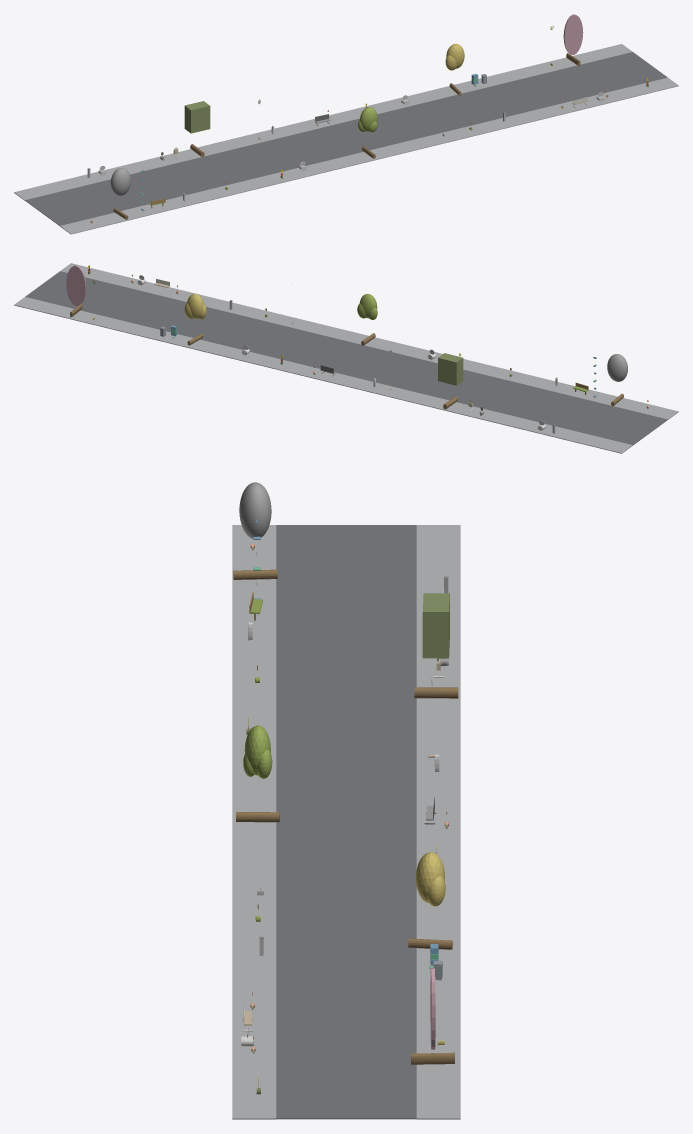
The picture shows the model from 3 angles, top to bottom: view 1: azimuth 30°, elevation 25°; view 2: azimuth 150°, elevation 25°; view 3: azimuth 270°, elevation 25°; orthographic projection. The views are drawn at different scales.
Parts seen in each view (by area): view 1: road_slab, sidewalk_left, sidewalk_right, inst_0013, inst_0016, inst_0012, inst_0014, inst_0015; view 2: road_slab, sidewalk_right, sidewalk_left, inst_0013, inst_0016, inst_0012, inst_0015, inst_0014; view 3: road_slab, sidewalk_left, sidewalk_right, inst_0013, inst_0012, inst_0014, inst_0015, inst_0016.
Part boxes in pixels (x1,y1,x2,y2): road_slab: (25, 52, 667, 225); sidewalk_left: (60, 77, 678, 234); sidewalk_right: (14, 44, 632, 200); inst_0013: (184, 101, 210, 157); inst_0016: (563, 14, 583, 66); inst_0012: (110, 168, 130, 219); inst_0014: (358, 107, 377, 158); inst_0015: (445, 43, 464, 95); road_slab: (25, 271, 667, 445); sidewalk_right: (14, 297, 632, 453); sidewalk_left: (60, 263, 678, 419); inst_0013: (438, 353, 463, 409); inst_0016: (66, 265, 86, 317); inst_0012: (607, 354, 627, 406); inst_0015: (184, 293, 206, 345); inst_0014: (357, 294, 377, 345); road_slab: (276, 525, 416, 1119); sidewalk_left: (232, 525, 276, 1119); sidewalk_right: (416, 525, 460, 1119); inst_0013: (414, 593, 458, 698); inst_0012: (233, 482, 277, 579); inst_0014: (236, 725, 279, 822); inst_0015: (408, 852, 452, 949); inst_0016: (411, 968, 454, 1064).
Size of the model in its own units: 80 by 6.08 by 13.
